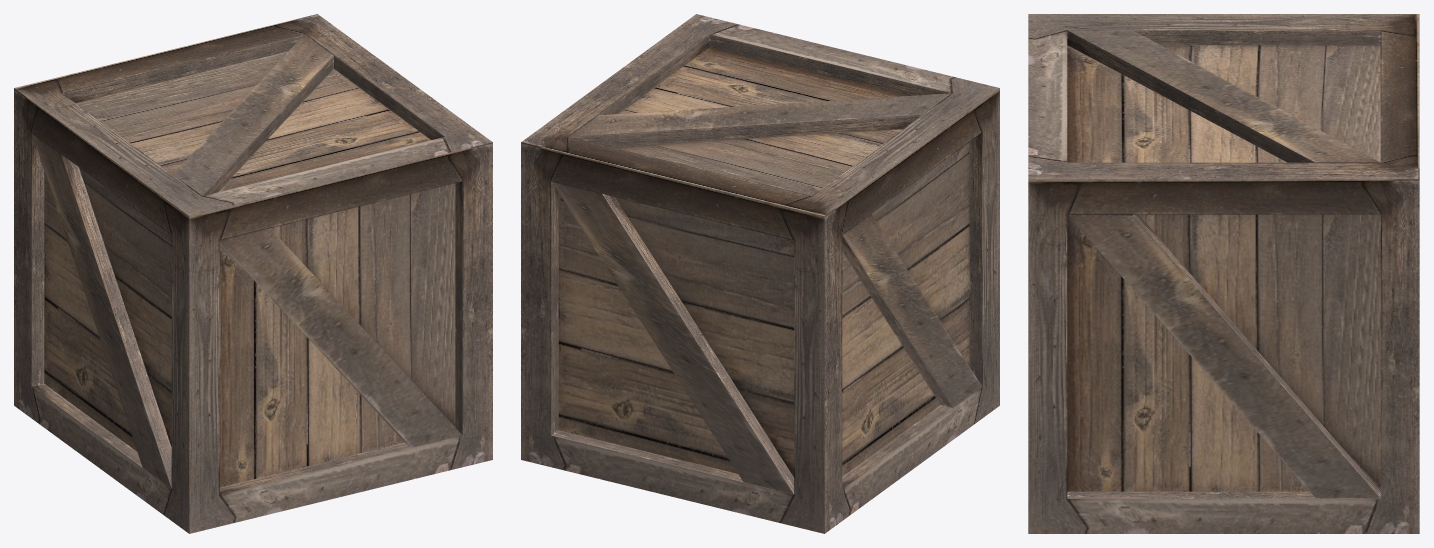
File: crate.fbx
3 views of the same model, side by side, from view 1: azimuth 30°, elevation 25°; view 2: azimuth 150°, elevation 25°; view 3: azimuth 270°, elevation 25° (orthographic). The views are drawn at different scales.
Visible parts, largest first — view 1: crate; view 2: crate; view 3: crate.
Part boxes in pixels (x1,y1,x2,y2): crate: [14, 14, 492, 533]; crate: [521, 14, 999, 533]; crate: [1028, 14, 1419, 533].
Bounding box in the file's own units: 120 × 120 × 120.
1 material, 1 textured.
